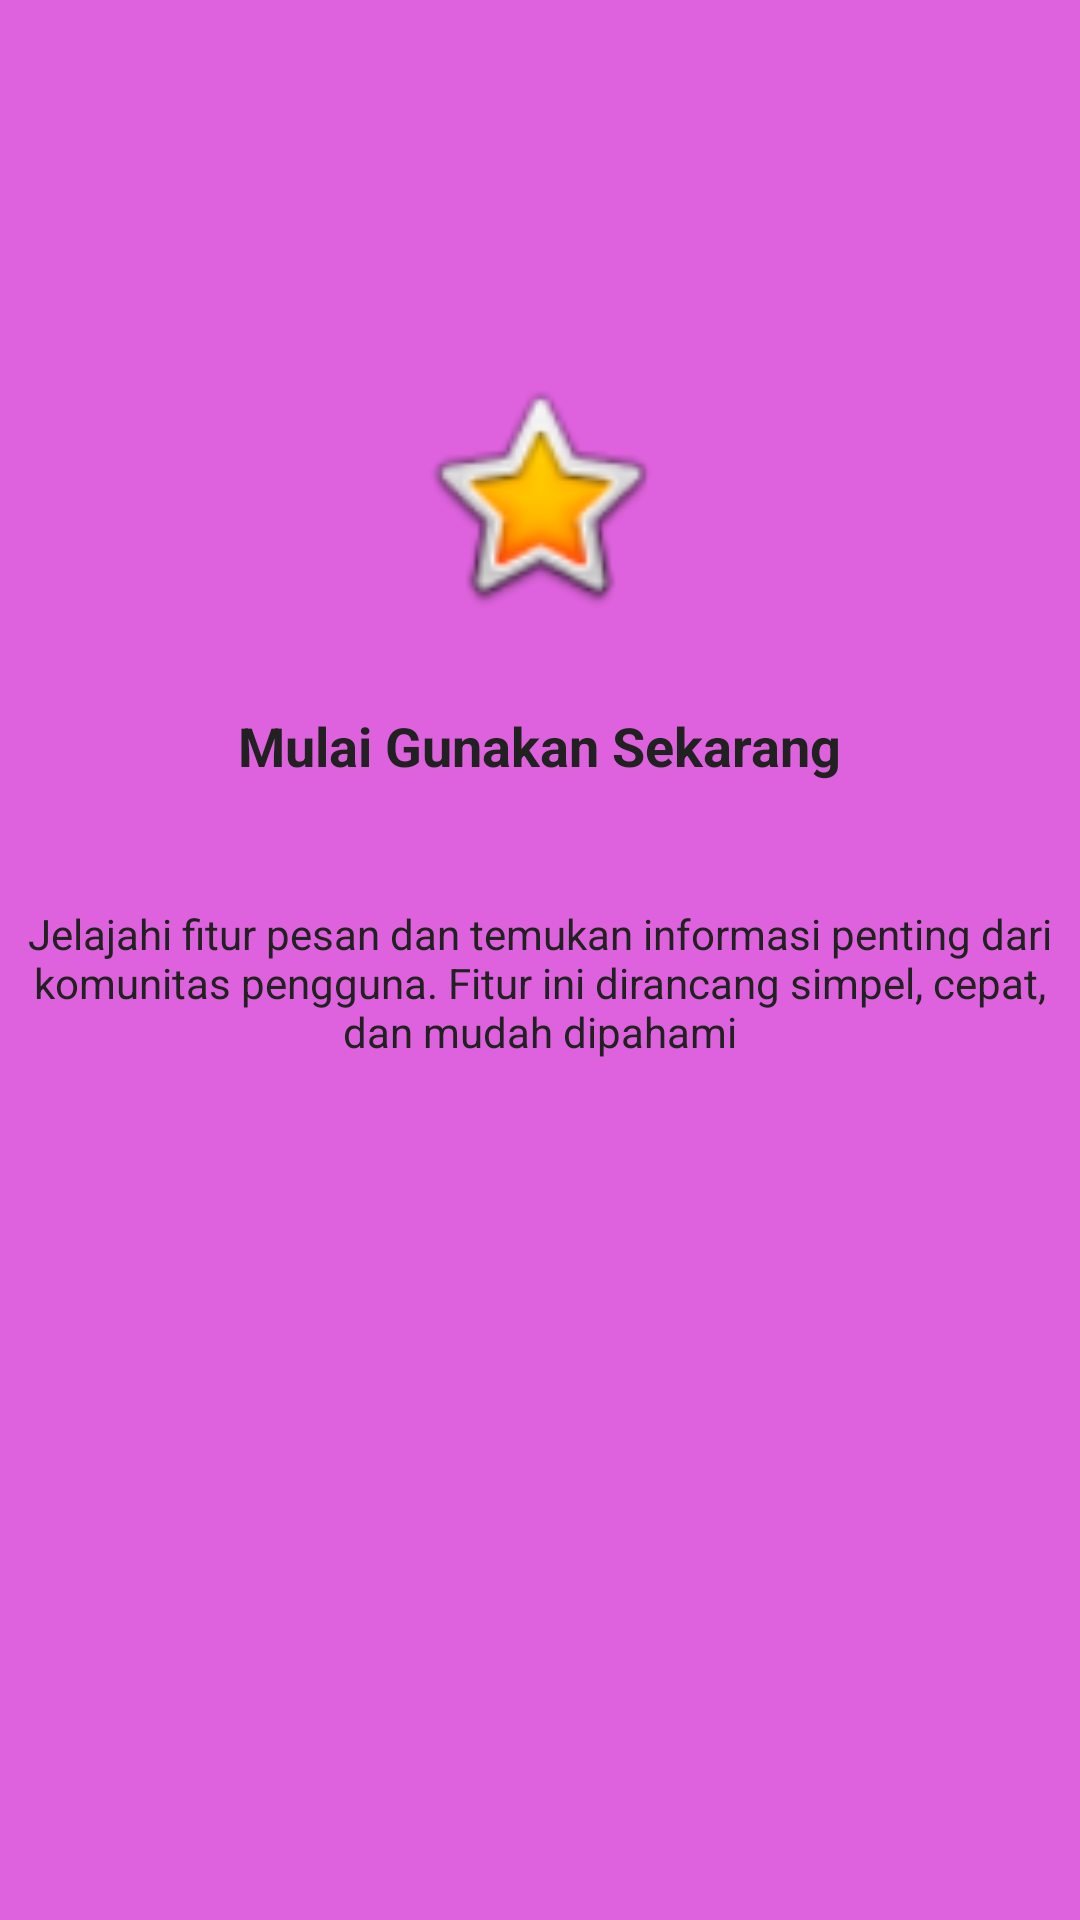

Icon click points for this 1080 × 1920 phone screenshot, format [x,y]:
star on: [540,497]
